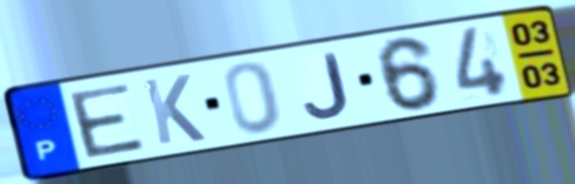0: (220, 57, 286, 137)
4: (452, 23, 512, 101)
6: (373, 33, 446, 113)
E: (64, 80, 150, 161)
J: (301, 50, 353, 120)
K: (139, 71, 209, 148)
